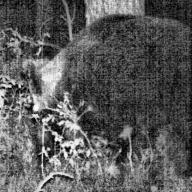boar: (18, 10, 192, 178)
